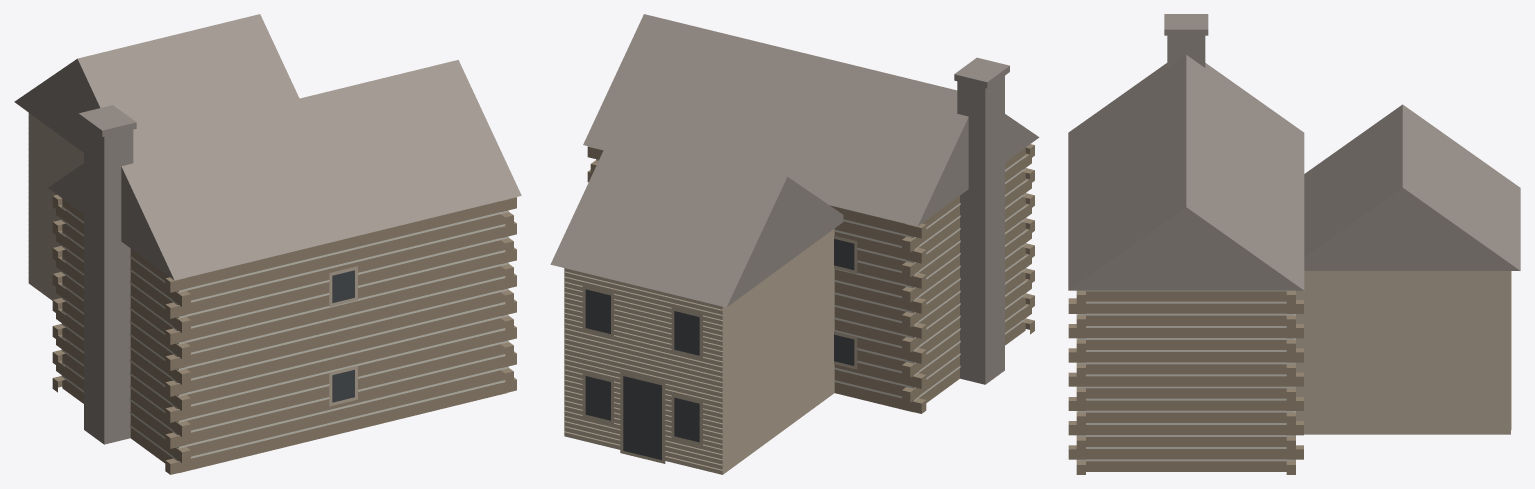
Rendered from miller_house__log_frame_1827.glb.
3 views of the same model, side by side, from view 1: azimuth 30°, elevation 25°; view 2: azimuth 150°, elevation 25°; view 3: azimuth 270°, elevation 25° (orthographic). The views are drawn at different scales.
Parts seen in each view (by area): view 1: miller_house__log_frame_1827; view 2: miller_house__log_frame_1827; view 3: miller_house__log_frame_1827.
Part boxes in pixels (x1,y1,x2,y2): miller_house__log_frame_1827: (14, 14, 521, 474); miller_house__log_frame_1827: (550, 14, 1039, 474); miller_house__log_frame_1827: (1068, 14, 1520, 474).
Size of the model in its own units: 10.07 by 8.33 by 11.5.
